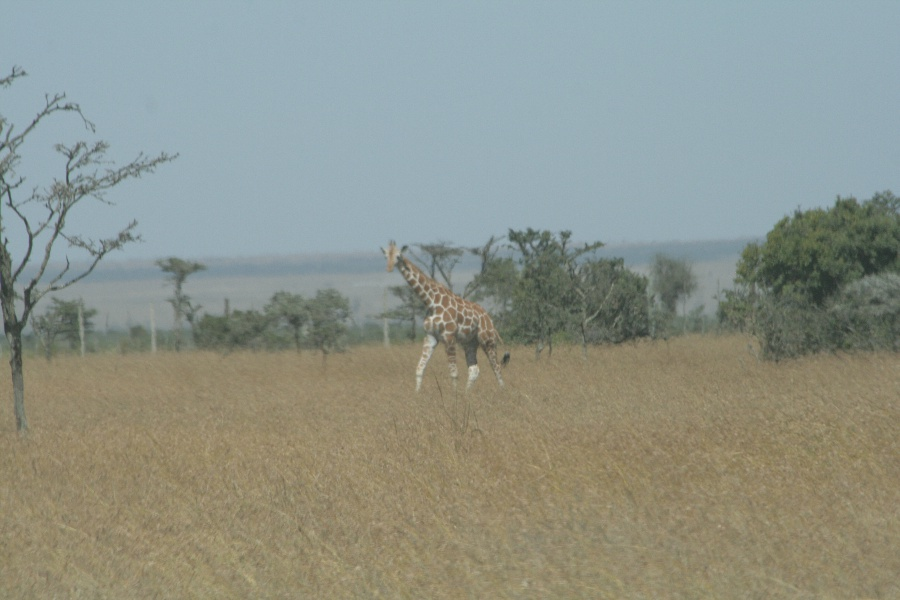giraffe: (376, 234, 517, 399)
